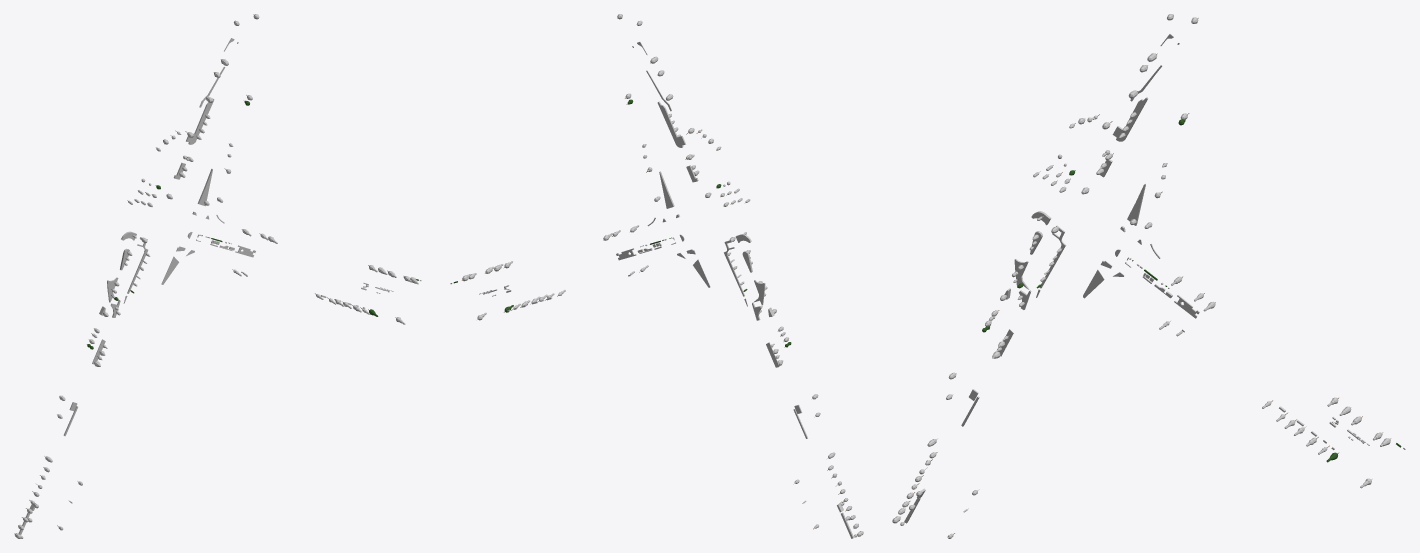
The model's file is TokyoStation_Vegetation.fbx.
3 views of the same model, side by side, from view 1: azimuth 30°, elevation 25°; view 2: azimuth 150°, elevation 25°; view 3: azimuth 330°, elevation 25° (orthographic). The views are drawn at different scales.
Size of the model in its own units: 368 by 16.3 by 401.
